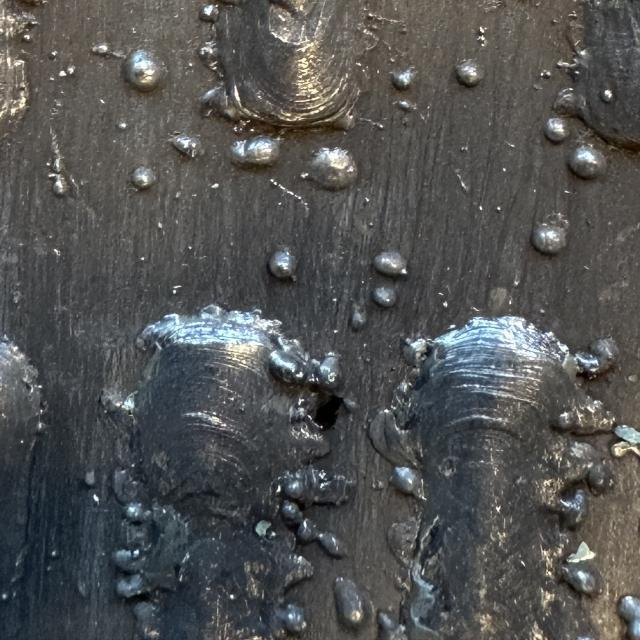Excess Reinforcement: (112, 519, 152, 600), (368, 409, 420, 468), (290, 391, 330, 464), (283, 465, 355, 505), (562, 441, 615, 494), (113, 469, 152, 525), (575, 338, 618, 379), (200, 82, 245, 121), (135, 314, 183, 350), (387, 518, 420, 566), (223, 310, 282, 335), (573, 400, 615, 435), (390, 380, 417, 429), (390, 466, 424, 499), (282, 554, 313, 589), (133, 601, 160, 640), (553, 88, 585, 118), (557, 50, 588, 80), (277, 604, 307, 634), (378, 611, 406, 640), (405, 339, 432, 368), (197, 41, 220, 70), (332, 111, 355, 130), (198, 304, 227, 319)
Spatters: (333, 576, 375, 632), (310, 148, 357, 190), (123, 49, 165, 91), (47, 130, 73, 196), (232, 136, 280, 166), (533, 214, 568, 255), (562, 561, 603, 595), (568, 145, 607, 180), (558, 489, 590, 529), (543, 118, 588, 144), (270, 350, 305, 382), (315, 351, 342, 390), (617, 595, 640, 640), (268, 248, 297, 279), (168, 134, 203, 159), (373, 251, 407, 276), (455, 60, 485, 88), (318, 534, 347, 559), (132, 166, 157, 190), (280, 500, 303, 526), (373, 285, 397, 308), (295, 519, 317, 544), (392, 68, 415, 90), (350, 302, 367, 330), (555, 411, 575, 431), (198, 5, 218, 22), (92, 44, 112, 56), (83, 471, 97, 488), (58, 65, 75, 78), (397, 100, 415, 112), (268, 179, 287, 190), (477, 26, 487, 46), (600, 89, 613, 102), (0, 590, 13, 602), (365, 20, 378, 31), (115, 120, 128, 130), (540, 70, 552, 79), (48, 550, 60, 559), (373, 122, 385, 130), (398, 24, 407, 34), (22, 34, 32, 42), (48, 51, 58, 59), (367, 11, 377, 19), (300, 172, 310, 180), (368, 221, 377, 229), (93, 495, 100, 505), (460, 145, 470, 152), (550, 19, 558, 25), (495, 206, 502, 212), (388, 58, 395, 64), (48, 76, 55, 81), (365, 196, 370, 202), (502, 168, 507, 171)
